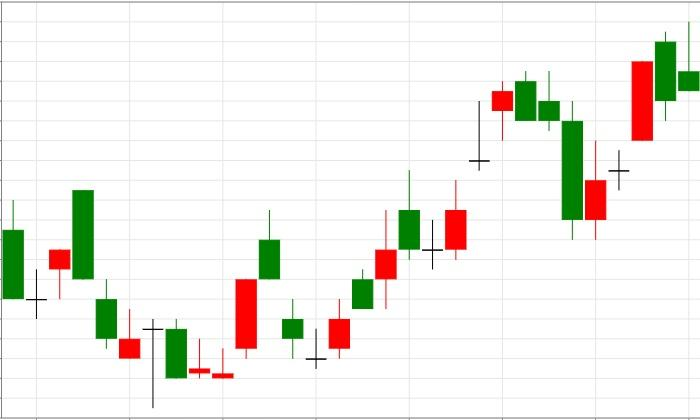shooting_star_fall: (561, 22, 700, 240)
